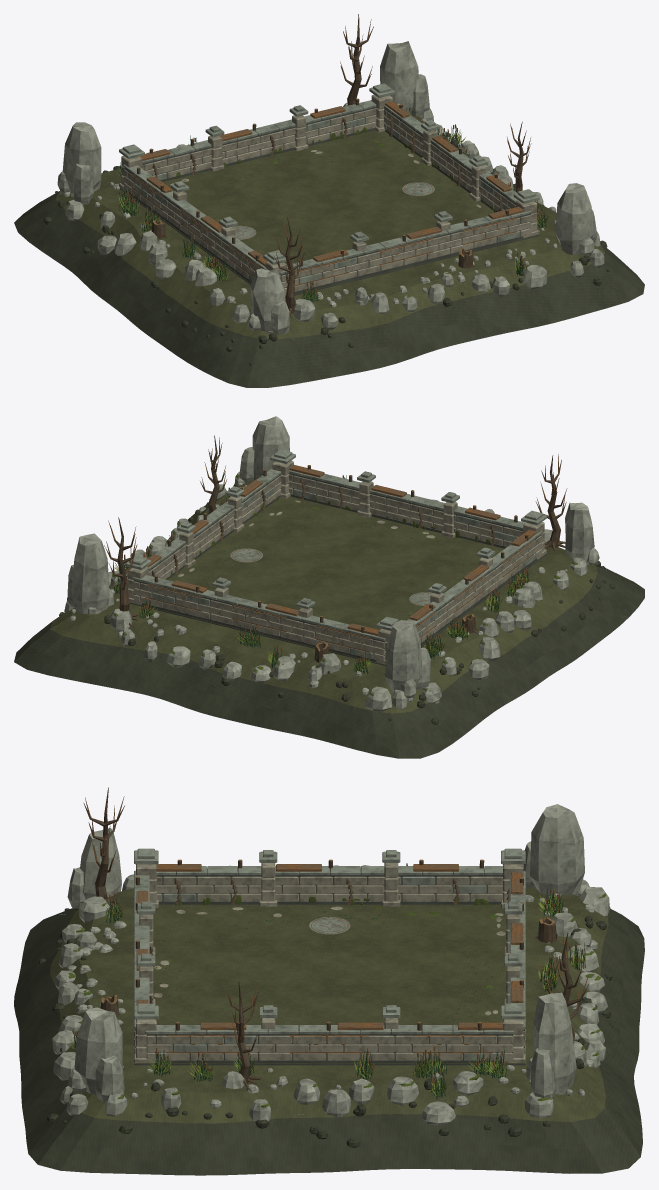
The model's file is realm_03.fbx.
3 renders of one model, top to bottom at view 1: azimuth 30°, elevation 25°; view 2: azimuth 150°, elevation 25°; view 3: azimuth 270°, elevation 25°, orthographic. The views are drawn at different scales.
Parts seen in each view (by area): view 1: realm_03__shore, realm_03__closed_walls, realm_03__combat_floor, realm_03__biome_dressing; view 2: realm_03__shore, realm_03__closed_walls, realm_03__combat_floor, realm_03__biome_dressing; view 3: realm_03__shore, realm_03__combat_floor, realm_03__closed_walls, realm_03__biome_dressing.
Boxes of the visible parts, x1=… form: realm_03__shore: x1=14, y1=102, x2=644, y2=387; realm_03__closed_walls: x1=119, y1=83, x2=539, y2=296; realm_03__combat_floor: x1=120, y1=130, x2=539, y2=297; realm_03__biome_dressing: x1=57, y1=14, x2=597, y2=334; realm_03__shore: x1=14, y1=471, x2=644, y2=758; realm_03__closed_walls: x1=125, y1=449, x2=546, y2=664; realm_03__combat_floor: x1=129, y1=496, x2=547, y2=665; realm_03__biome_dressing: x1=67, y1=416, x2=599, y2=708; realm_03__shore: x1=14, y1=865, x2=644, y2=1175; realm_03__combat_floor: x1=134, y1=904, x2=525, y2=1065; realm_03__closed_walls: x1=134, y1=848, x2=525, y2=1063; realm_03__biome_dressing: x1=60, y1=787, x2=599, y2=1114.
Size of the model in its own units: 112422 by 112760 by 37045.
